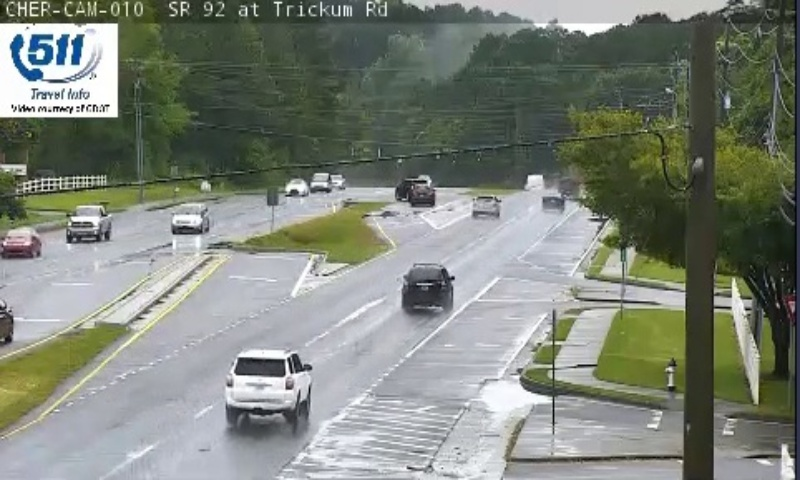car: (225, 348, 310, 413), (401, 265, 453, 304), (471, 193, 501, 216)
